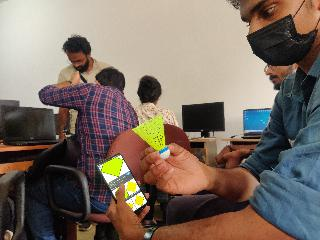shuttlecock: (132, 114, 170, 158)
